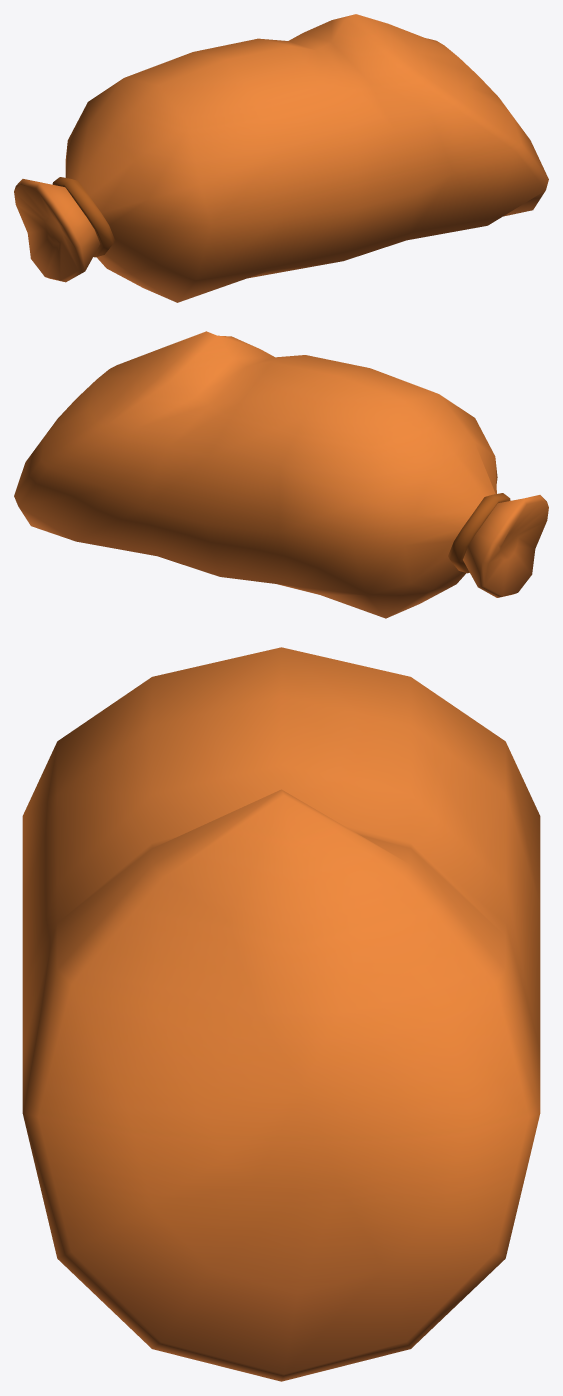
File: Bag_03.fbx
3 views of the same model, one above another, from view 1: azimuth 30°, elevation 25°; view 2: azimuth 150°, elevation 25°; view 3: azimuth 270°, elevation 25° (orthographic). The views are drawn at different scales.
Parts seen in each view (by area): view 1: Bag_03; view 2: Bag_03; view 3: Bag_03.
Boxes of the visible parts, bbox=[...] form: Bag_03: bbox=[14, 14, 548, 302]; Bag_03: bbox=[14, 331, 548, 618]; Bag_03: bbox=[22, 647, 540, 1381].
Size of the model in its own units: 90.45 by 40.35 by 42.82.
